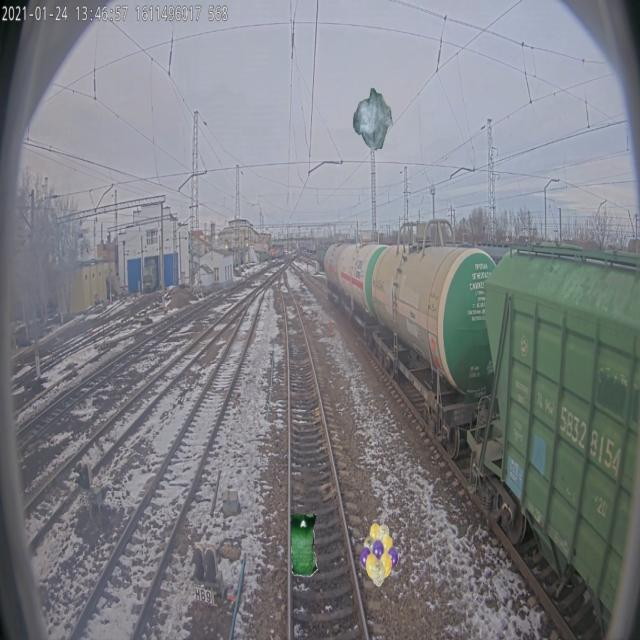balloon: (359, 522, 398, 586)
plastic bag: (352, 86, 393, 150), (290, 512, 318, 576)
